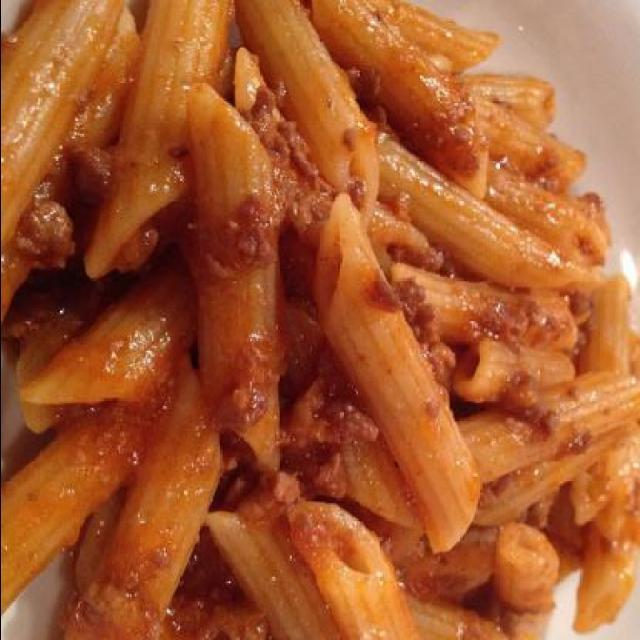Pasta al ragu: (22, 6, 596, 637)
